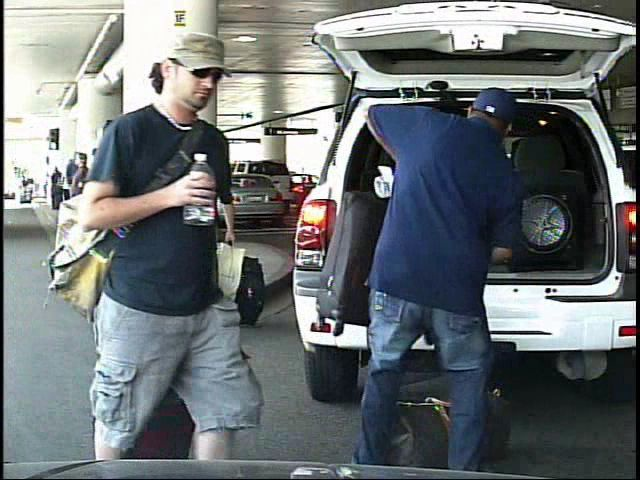person: (336, 65, 539, 480), (70, 23, 253, 480), (137, 124, 251, 345), (14, 174, 24, 205)
